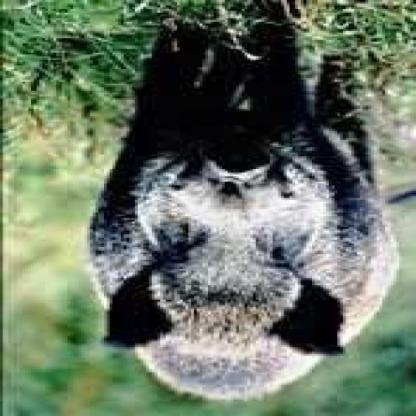boar: (82, 1, 415, 400)
